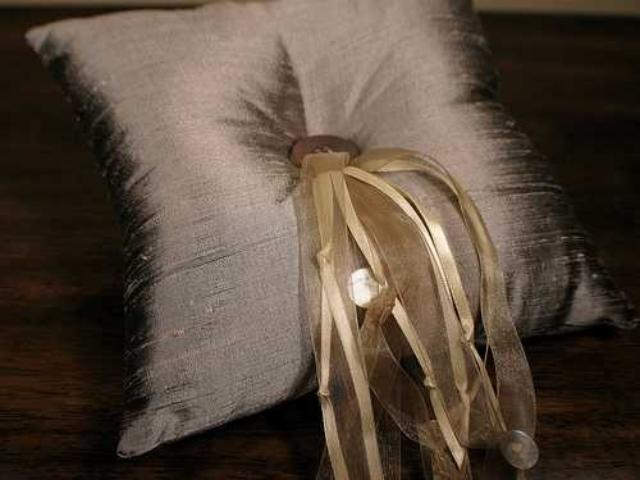pillow: (23, 0, 637, 458)
